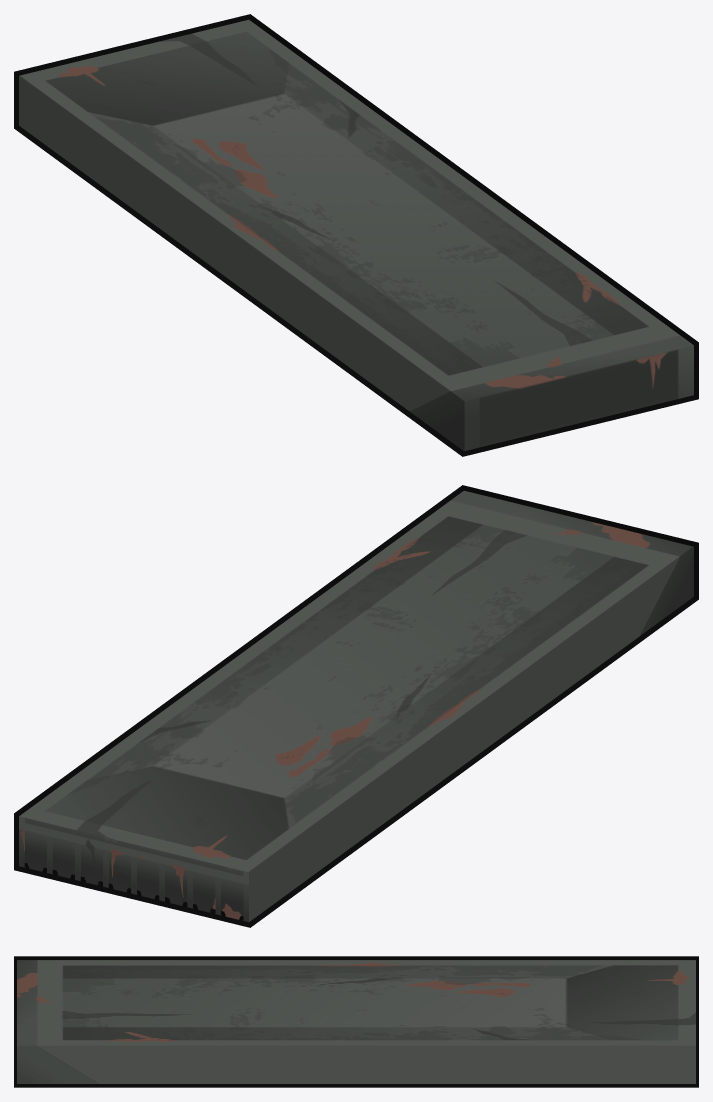
Rendered from Building_AncientOpenContainer_Things_Building_Ancient_Shipping_RustedOpenContainer_RustedOpenContainerA.glb.
The picture shows the model from 3 angles, top to bottom: view 1: azimuth 30°, elevation 25°; view 2: azimuth 150°, elevation 25°; view 3: azimuth 270°, elevation 25°; orthographic projection. The views are drawn at different scales.
Parts seen in each view (by area): view 1: Body, Outline; view 2: Body, Outline; view 3: Body, Outline.
Boxes of the visible parts, x1,y1,x2,y2 form: Body: (19, 19, 693, 451); Outline: (14, 14, 698, 456); Body: (19, 490, 693, 922); Outline: (14, 485, 698, 927); Body: (17, 960, 695, 1083); Outline: (14, 956, 698, 1087).
Size of the model in its own units: 1.96 by 0.4502 by 6.44.
2 materials, 1 textured.
